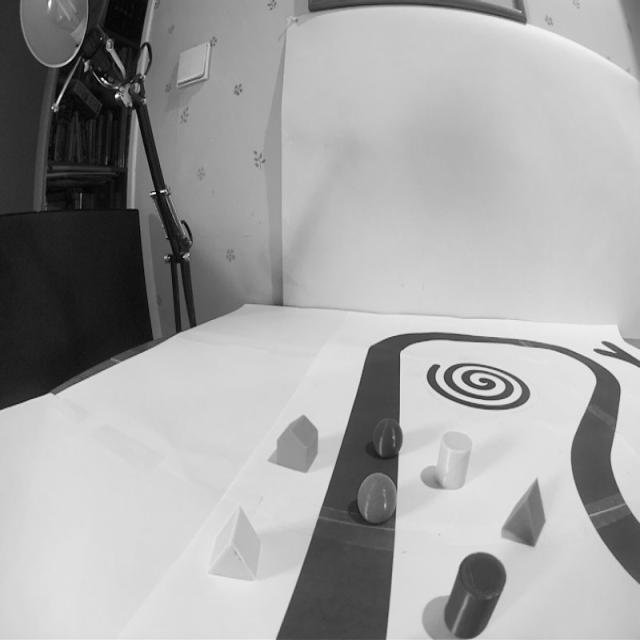ball: (356, 472, 398, 526), (372, 418, 404, 459)
cylinder: (444, 550, 507, 639), (435, 431, 473, 490)
home: (274, 415, 318, 473)
lineStraight: (274, 461, 400, 640)
nest: (426, 360, 533, 410)
triangle: (206, 504, 262, 582), (501, 478, 547, 548)
